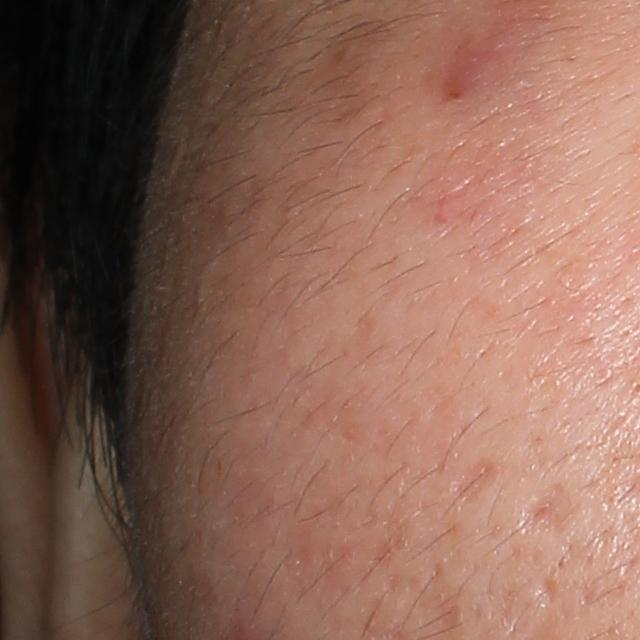atrophic_scar: (511, 480, 587, 546), (443, 456, 506, 513), (528, 572, 564, 617)
